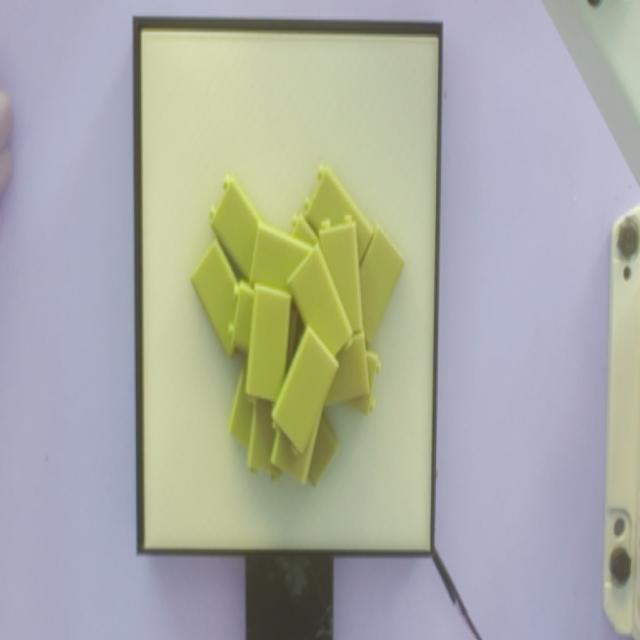bateria: (270, 329, 341, 460)
mesa: (133, 17, 442, 557)
